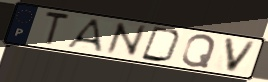A: (63, 17, 105, 54)
D: (138, 25, 184, 64)
N: (104, 20, 148, 58)
Q: (179, 33, 218, 70)
T: (42, 10, 72, 47)
V: (222, 36, 259, 75)
